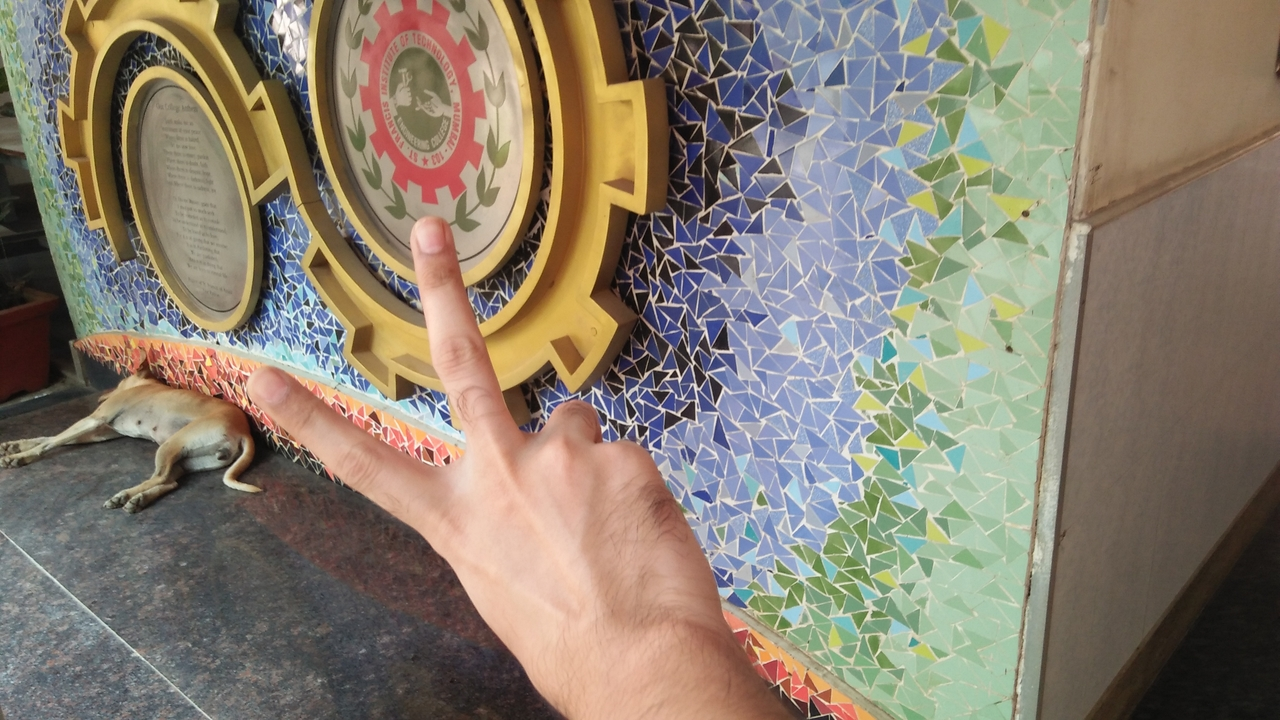fingertip: (220, 361, 295, 418), (406, 210, 454, 266)
